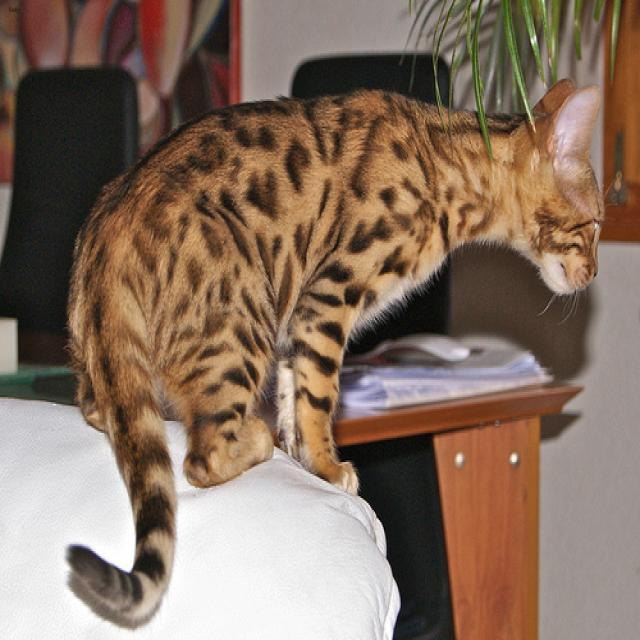Bengal: (500, 65, 619, 320)
